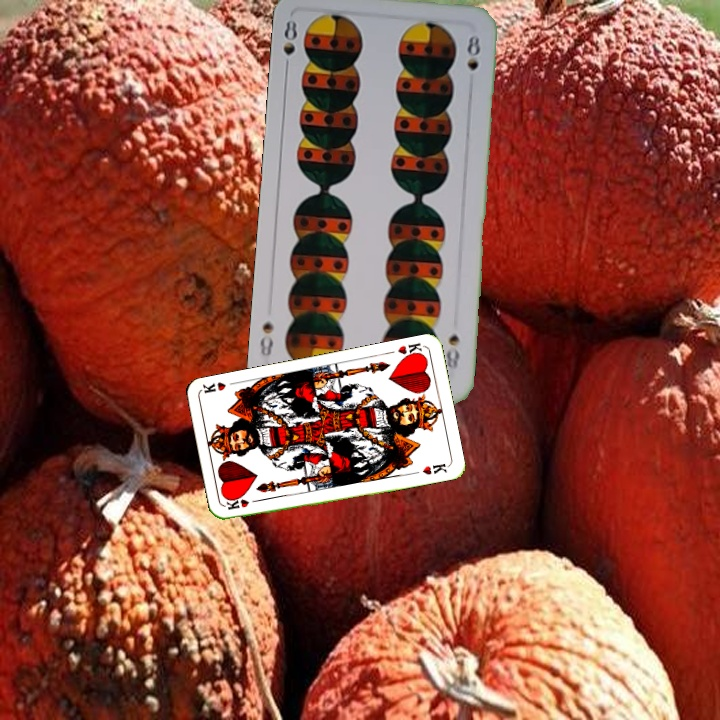HK: (394, 339, 426, 362), (223, 495, 264, 512)
S8: (279, 17, 300, 75), (442, 331, 462, 372)
